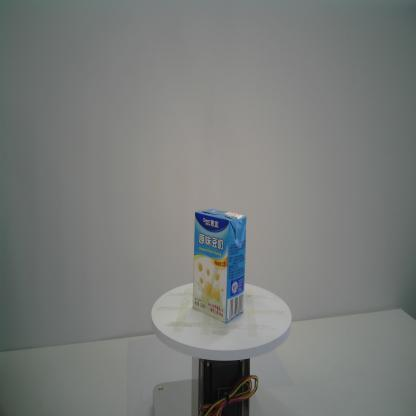Milk: (193, 208, 247, 323)
